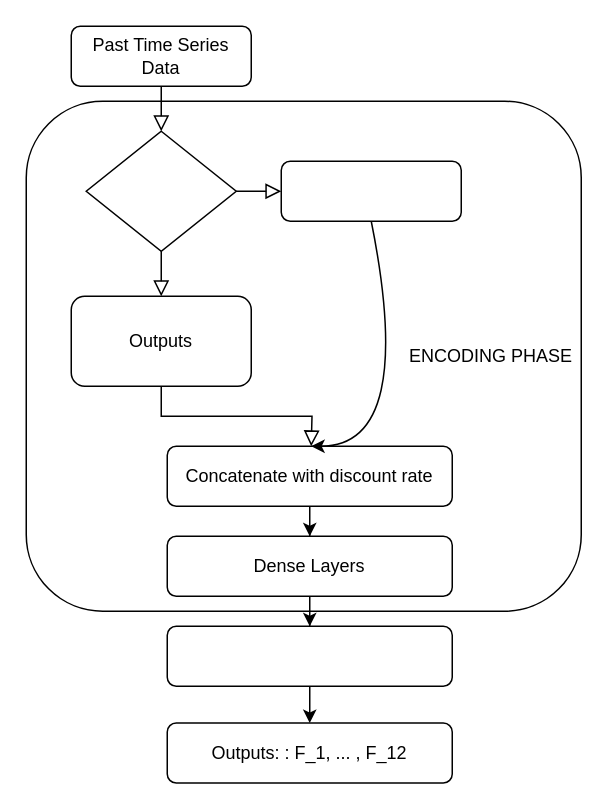
Image size: 608x810. Some labels were removed from this diagram. Here are the shapes that lost their labels. From the top down, the centre of each, then its label:
(160,190): GRU
(370,190): Hidden States
(309,655): Multiple Heads
